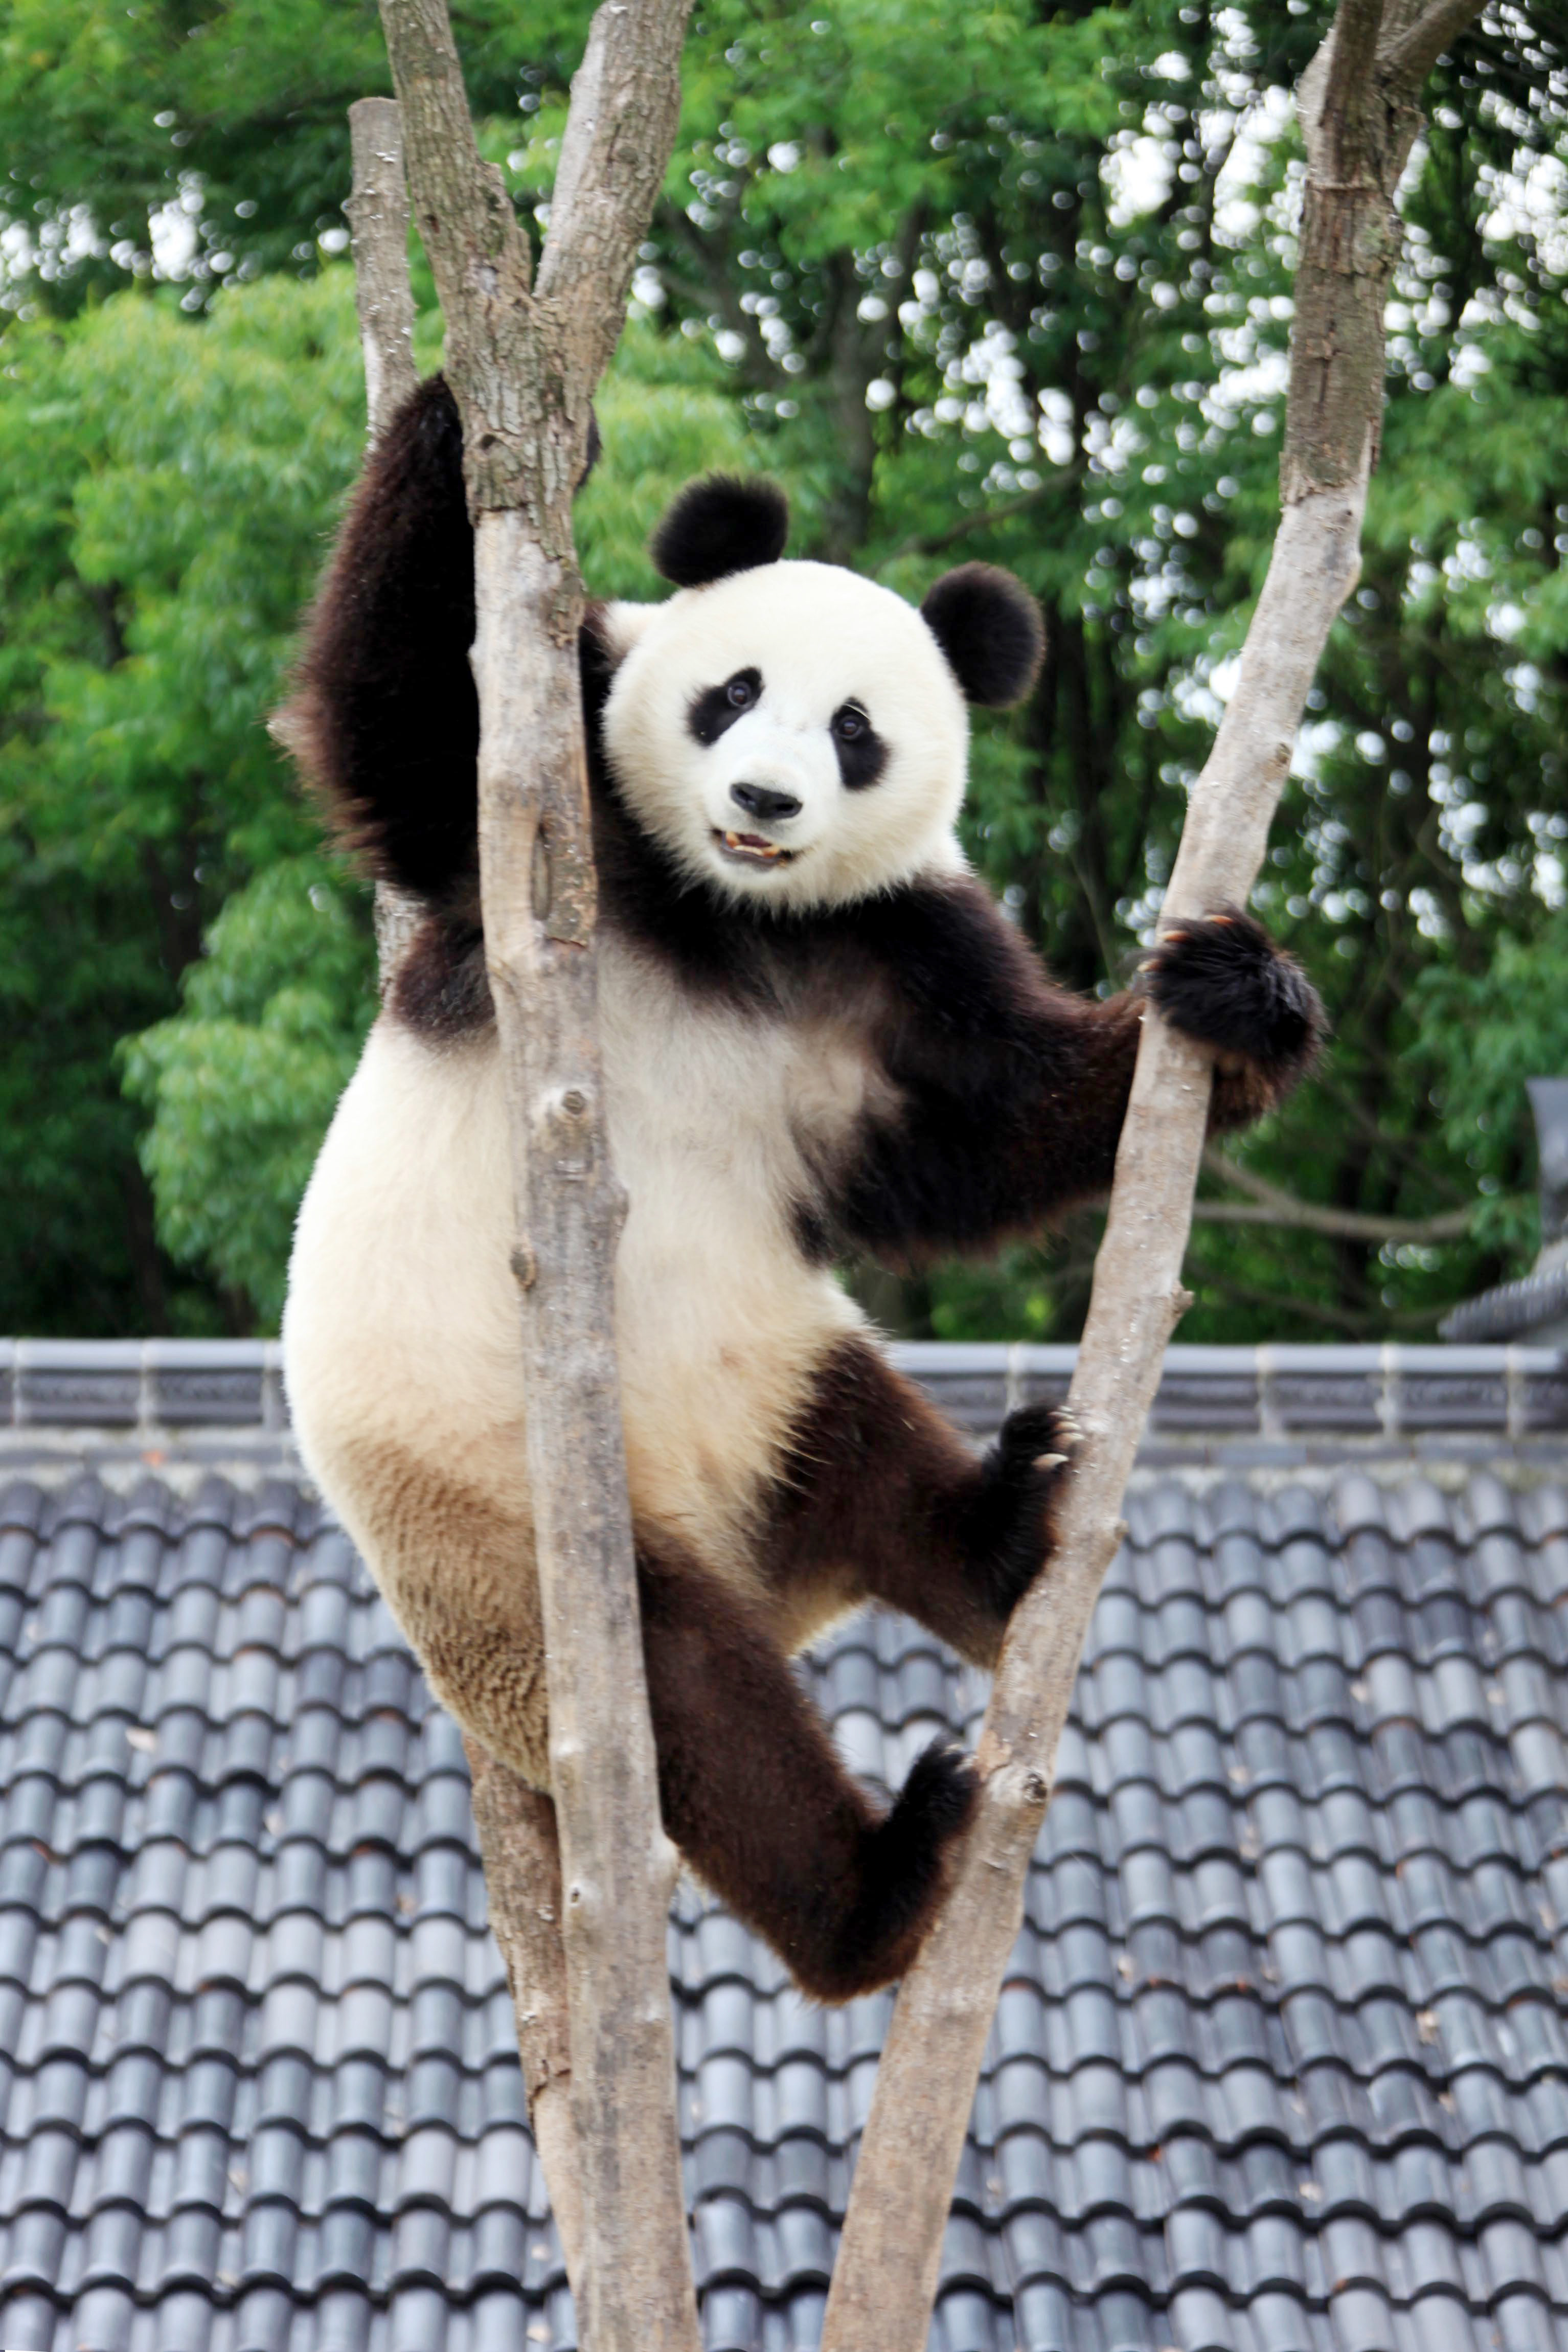panda: (229, 261, 1318, 2068)
